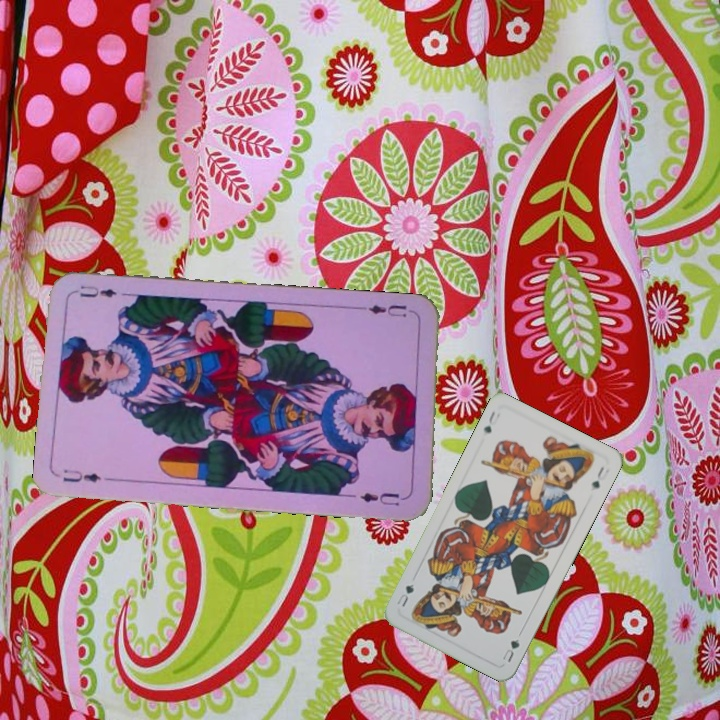EU: (364, 300, 419, 320), (59, 465, 103, 485)
GU: (498, 635, 522, 665), (479, 406, 498, 436)
